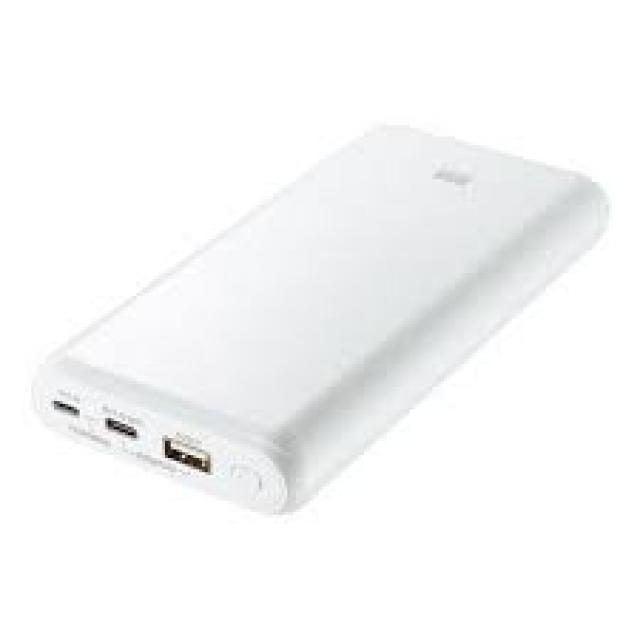battery: (26, 120, 600, 494)
